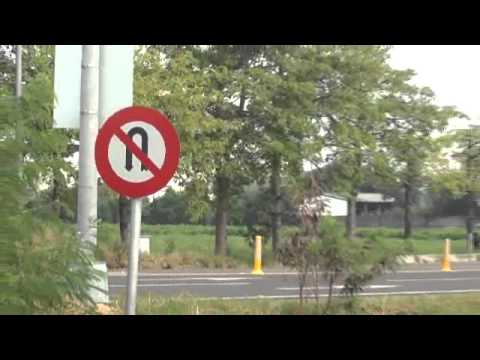No_u_turn: (94, 106, 179, 198)
